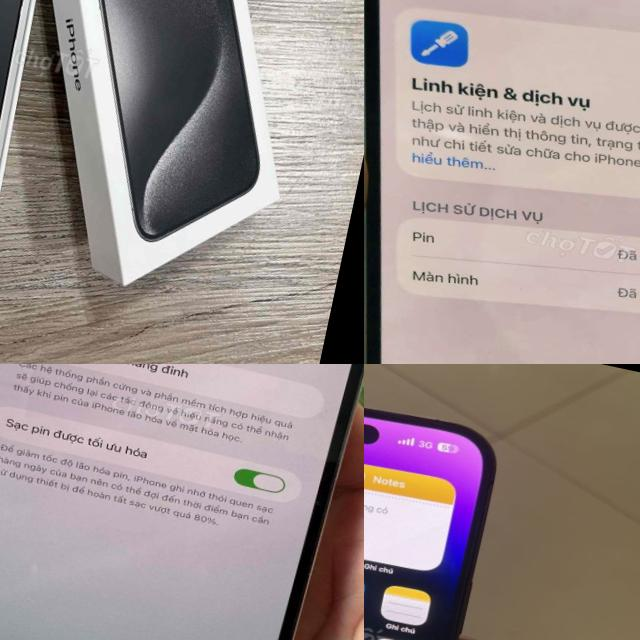gen_12_13: (364, 0, 640, 364)
gen_14: (0, 364, 364, 640), (364, 364, 515, 640)
